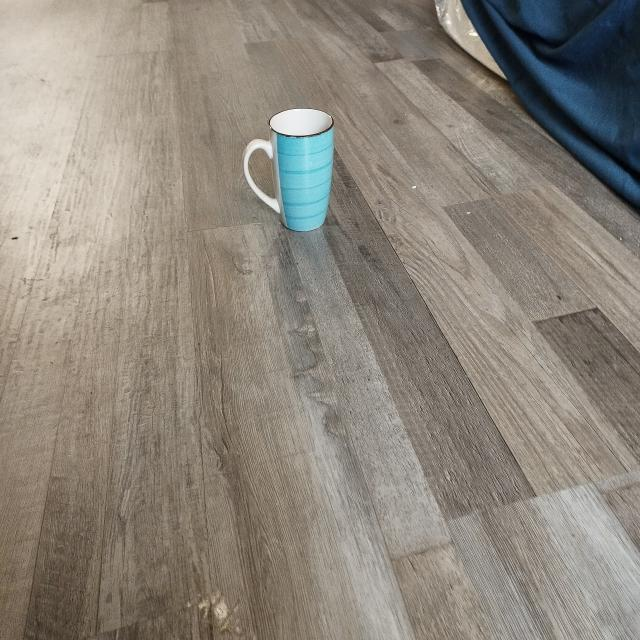Cup: (231, 90, 367, 251)
